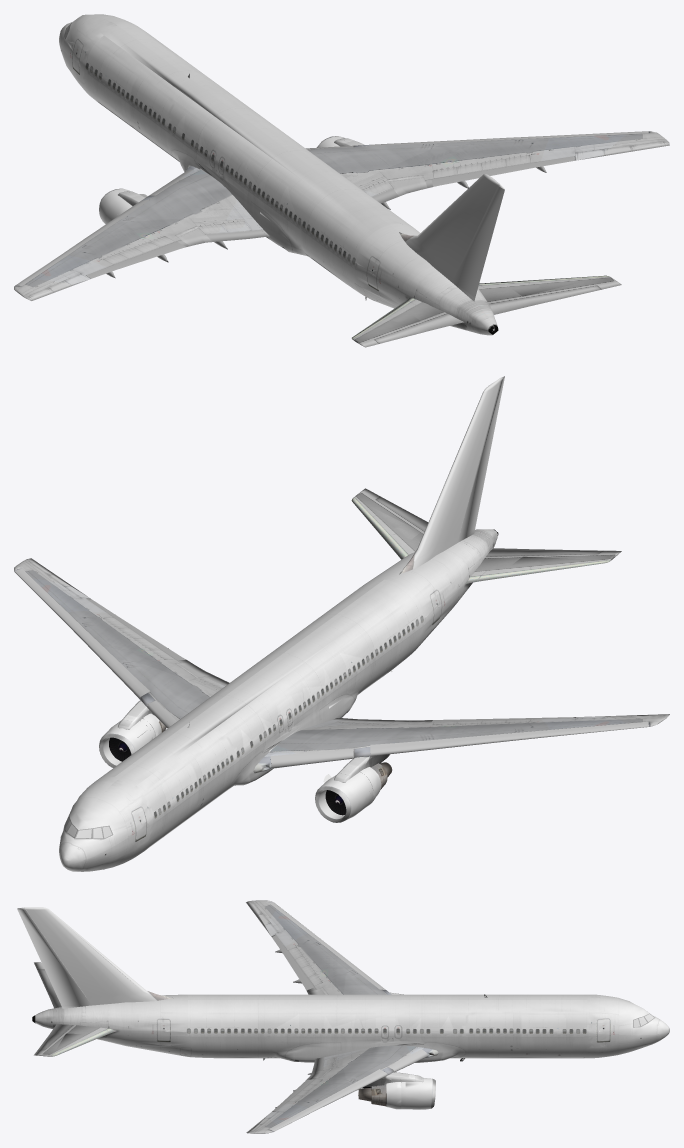
3 views of the same model, one above another, from view 1: azimuth 30°, elevation 25°; view 2: azimuth 150°, elevation 25°; view 3: azimuth 270°, elevation 25° (orthographic). The views are drawn at different scales.
Visible parts, largest first — view 1: Fuselage, RWing_002, LWing_001, VStab_001, VRudder, RHStab, LHStab_001, RHelev, Glass_Fuselage, flap_ext_R, LHStab, flapl (+6 smaller); view 2: Fuselage, RWing_002, LWing_001, VStab_001, LFflapwing2, LHStab_001, RHStab, RFflapwing2, VRudder, LCapaturbofan_004, Glass_Fuselage, LFflapwing1 (+2 smaller); view 3: Fuselage, VStab_001, RWing_002, LWing_001, VRudder, Glass_Fuselage, RHStab, RFflapwing2, RCapaturbofan_003, LFflapwing2, RCapaturbofan_001, flap_ext_L (+2 smaller).
Boxes of the visible parts, x1,y1,x2,y2 form: Fuselage: (59,14,498,335); RWing_002: (307,131,669,189); LWing_001: (14,165,269,300); VStab_001: (399,174,499,301); VRudder: (452,186,504,297); RHStab: (478,275,621,302); LHStab_001: (351,297,463,347); RHelev: (488,285,601,314); Glass_Fuselage: (87,67,357,269); flap_ext_R: (431,156,574,186); LHStab: (375,313,462,343); flapl: (193,223,266,242); Fuselage: (59,529,498,871); RWing_002: (14,558,221,721); LWing_001: (253,714,669,773); VStab_001: (399,378,500,574); LFflapwing2: (370,721,648,756); LHStab_001: (466,548,621,583); RHStab: (351,488,423,559); RFflapwing2: (15,568,149,698); VRudder: (458,377,504,540); LCapaturbofan_004: (315,774,370,822); Glass_Fuselage: (157,617,425,819); LFflapwing1: (270,749,353,768); Fuselage: (32,994,669,1062); VStab_001: (25,907,173,1008); RWing_002: (246,1045,438,1133); LWing_001: (246,900,391,994); VRudder: (17,909,90,1005); Glass_Fuselage: (185,1031,584,1036); RHStab: (34,1025,117,1056); RFflapwing2: (269,1069,387,1131); RCapaturbofan_003: (405,1077,435,1109); LFflapwing2: (269,902,385,989); RCapaturbofan_001: (386,1082,405,1109); flap_ext_L: (272,935,314,990).
Size of what is drawn, in the model's own units: 46.31 by 15.12 by 55.2.
27 materials, 21 textured.
